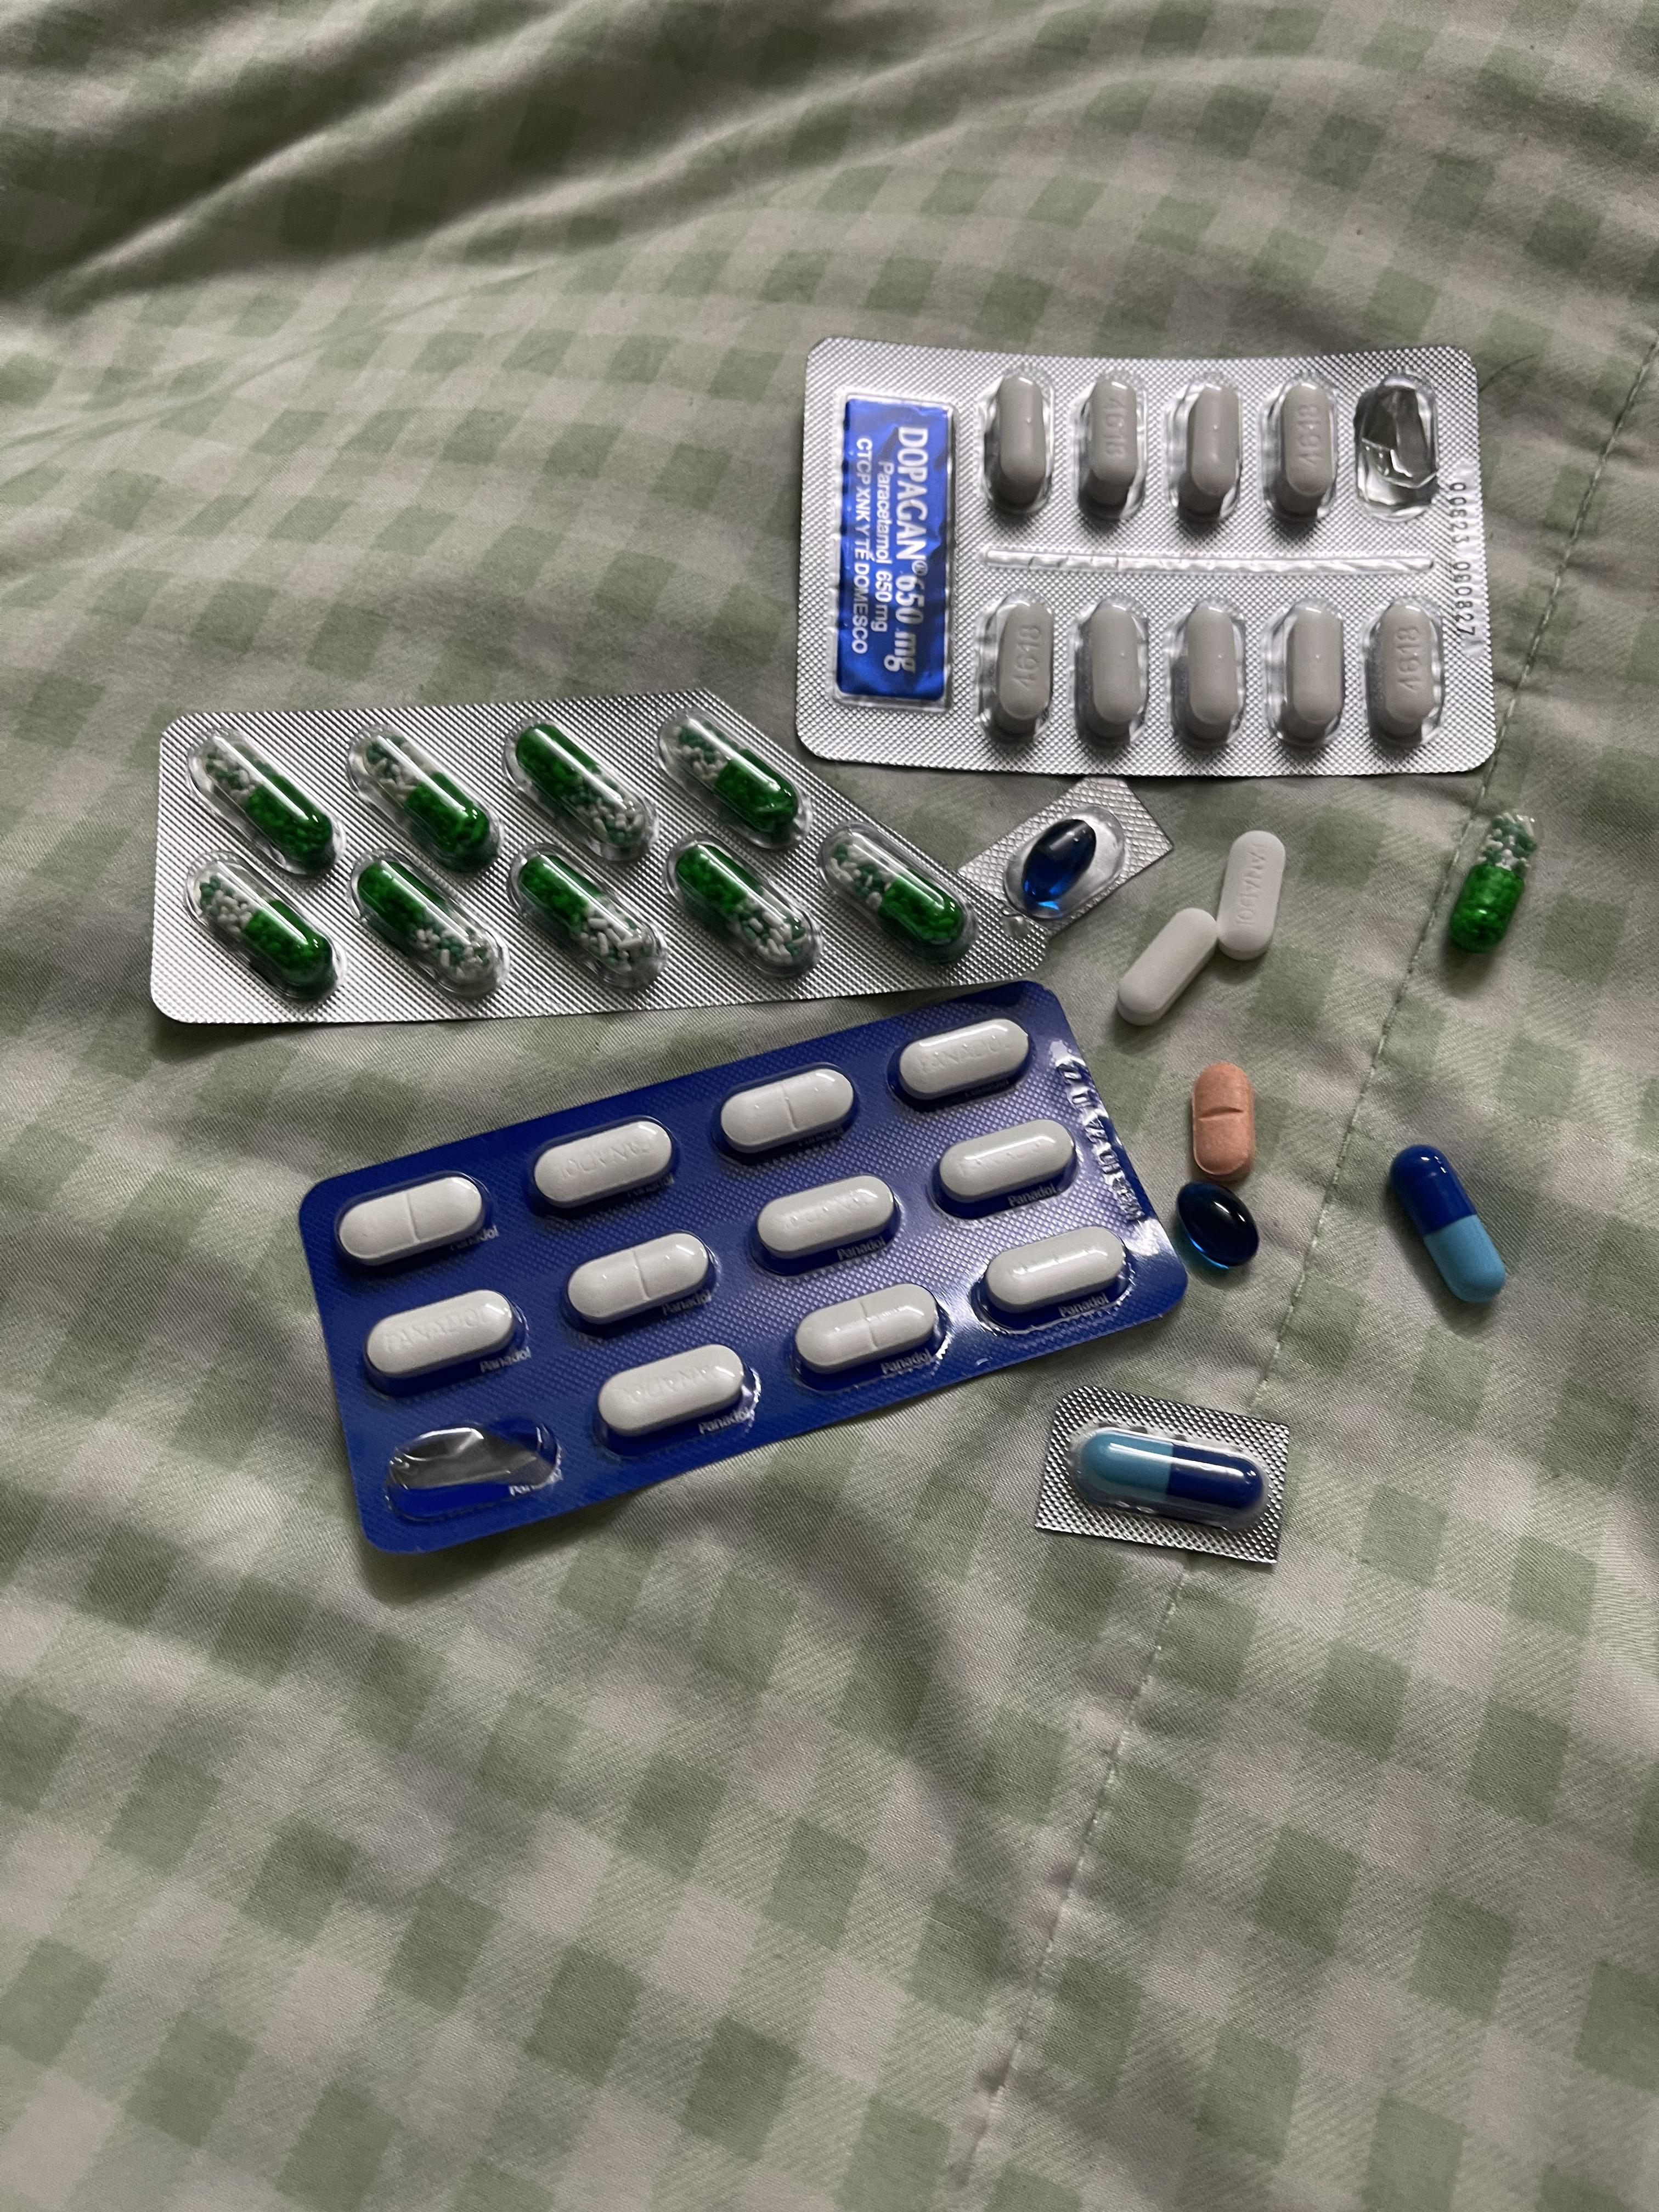Lincomyxin_500mg: (1176, 1179, 1263, 1270), (1019, 819, 1100, 909)
Loratadine_10mg: (1192, 1062, 1255, 1181)
Paracetamol_350mg: (364, 1289, 519, 1390), (568, 1230, 718, 1329), (596, 1346, 748, 1442), (338, 1172, 488, 1268), (532, 1116, 680, 1212), (796, 1284, 936, 1378), (983, 1226, 1126, 1317), (936, 1116, 1072, 1207), (756, 1174, 899, 1259), (718, 1066, 850, 1157), (896, 1017, 1026, 1104), (1215, 829, 1288, 960)
Paracetamol_500mg: (1115, 907, 1223, 1026), (1366, 601, 1445, 740), (1075, 599, 1148, 742), (1171, 599, 1244, 740), (978, 601, 1053, 737), (1277, 603, 1345, 744), (1176, 380, 1241, 519), (1274, 380, 1338, 519), (1079, 373, 1141, 512), (986, 374, 1049, 510)
Paracetamol_650mg: (186, 728, 347, 880), (349, 728, 507, 874), (502, 723, 662, 866), (659, 707, 807, 852), (518, 852, 657, 982), (357, 857, 495, 988), (197, 866, 331, 989), (674, 840, 800, 960), (833, 834, 962, 951), (1446, 810, 1539, 953)
pill: (1068, 1423, 1265, 1526), (1389, 1143, 1509, 1303)
